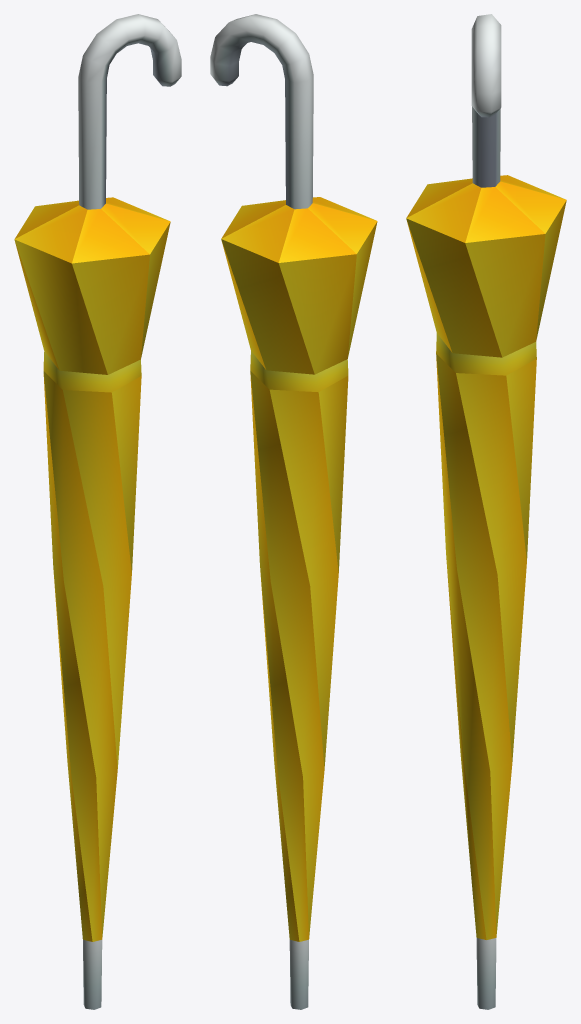
The model's file is CR_Umbrella_03.FBX.
3 views of the same model, side by side, from view 1: azimuth 30°, elevation 25°; view 2: azimuth 150°, elevation 25°; view 3: azimuth 270°, elevation 25° (orthographic). The views are drawn at different scales.
Parts seen in each view (by area): view 1: CR_Umbrella_03; view 2: CR_Umbrella_03; view 3: CR_Umbrella_03.
Part boxes in pixels (x1,y1,x2,y2): CR_Umbrella_03: [14, 14, 181, 1009]; CR_Umbrella_03: [210, 14, 377, 1009]; CR_Umbrella_03: [406, 14, 566, 1009].
Size of the model in its own units: 10.95 by 66.37 by 9.61.
